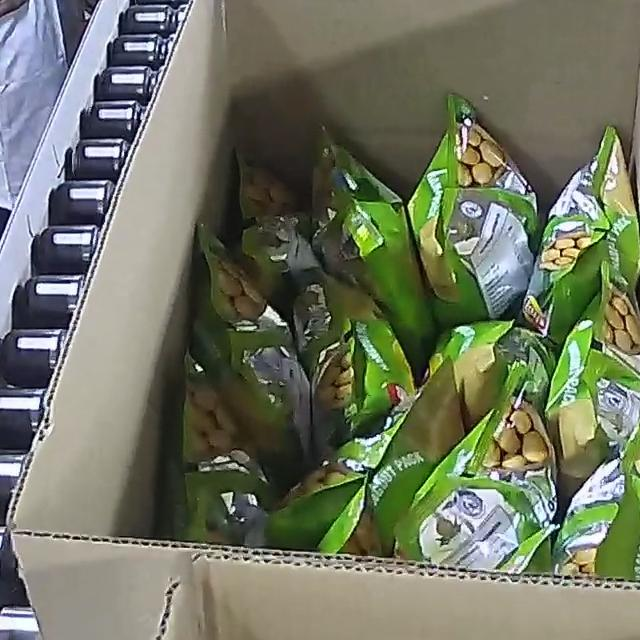yogurt: (178, 91, 640, 580)
